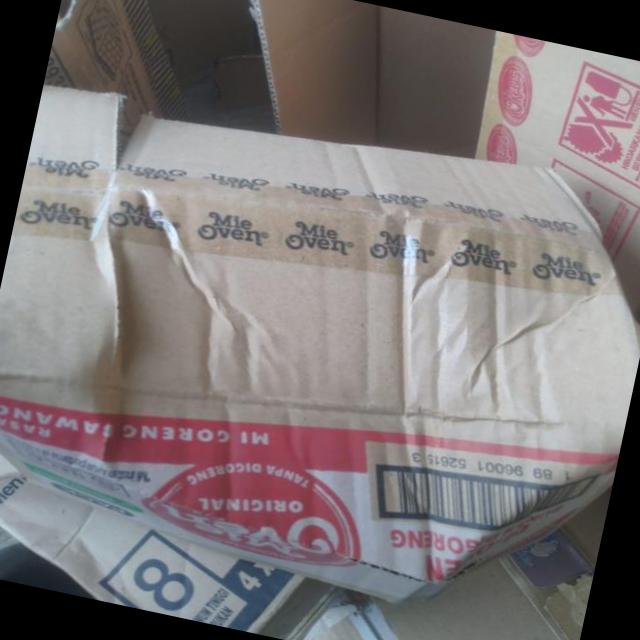crushed: (22, 370, 607, 596)
